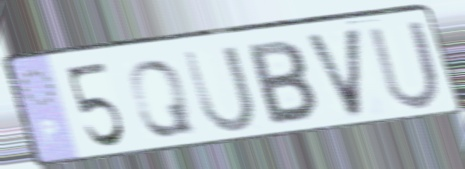5: (62, 59, 128, 151)
B: (244, 37, 321, 129)
Q: (126, 56, 199, 140)
U: (364, 16, 444, 113), (178, 42, 259, 137)
V: (301, 24, 366, 122)
